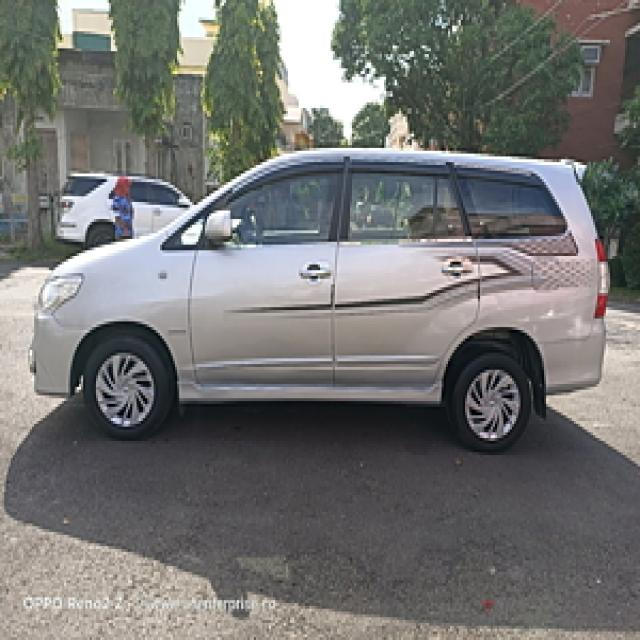light_vehicle: (28, 148, 610, 455)
